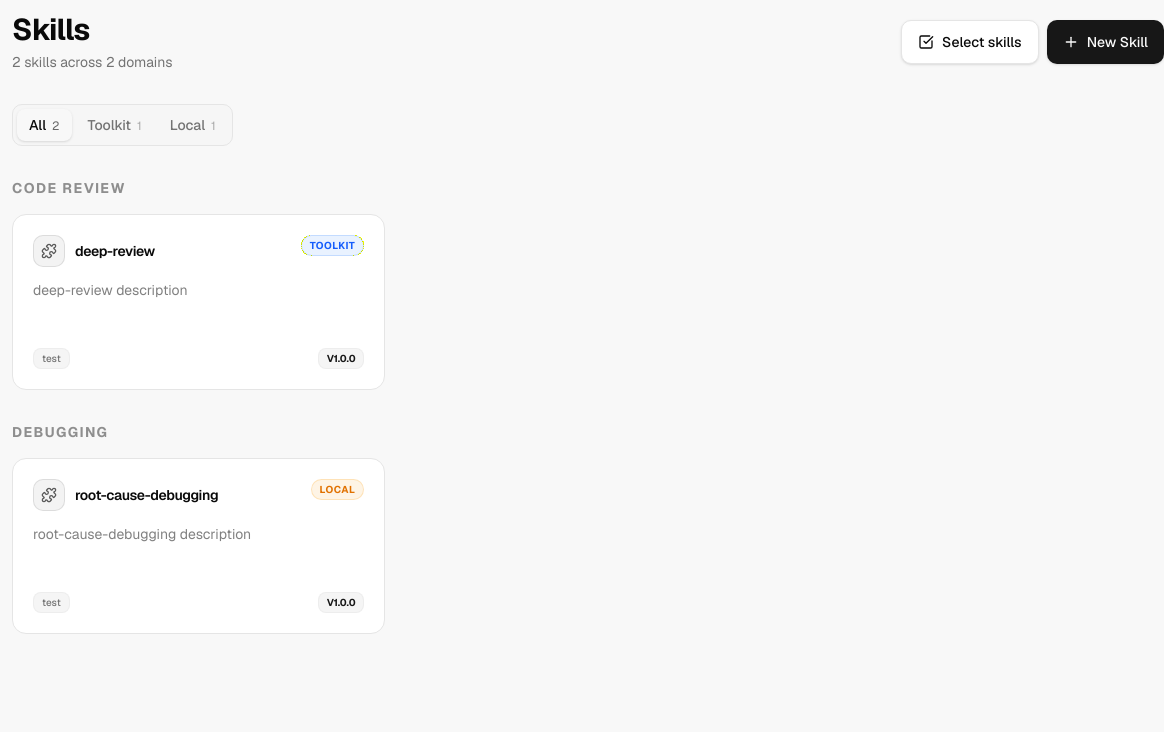
Test: SkillsList bulk selection › keeps selected skills when the source filter hides them
The image size is (1164, 732).
Click the button "Select skills". click: (970, 42)
box: [901, 20, 1039, 64]
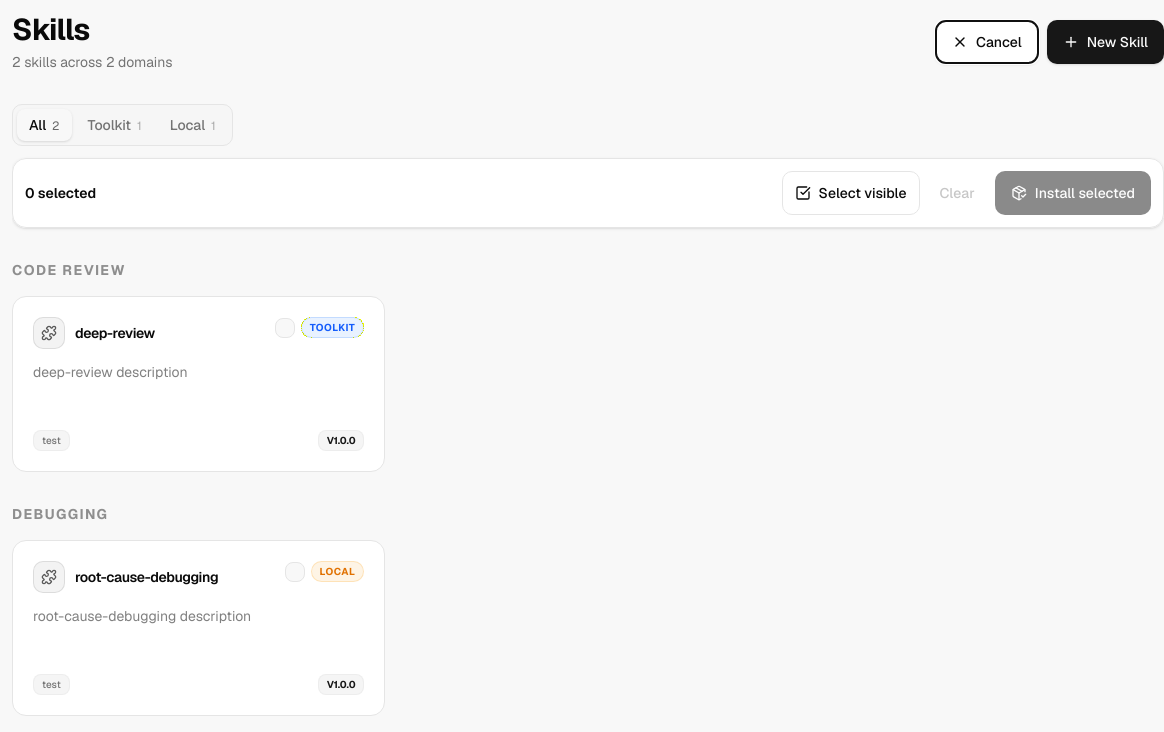
Click the checkbox named "select deep-review". click: (49, 333)
box: [12, 296, 385, 472]
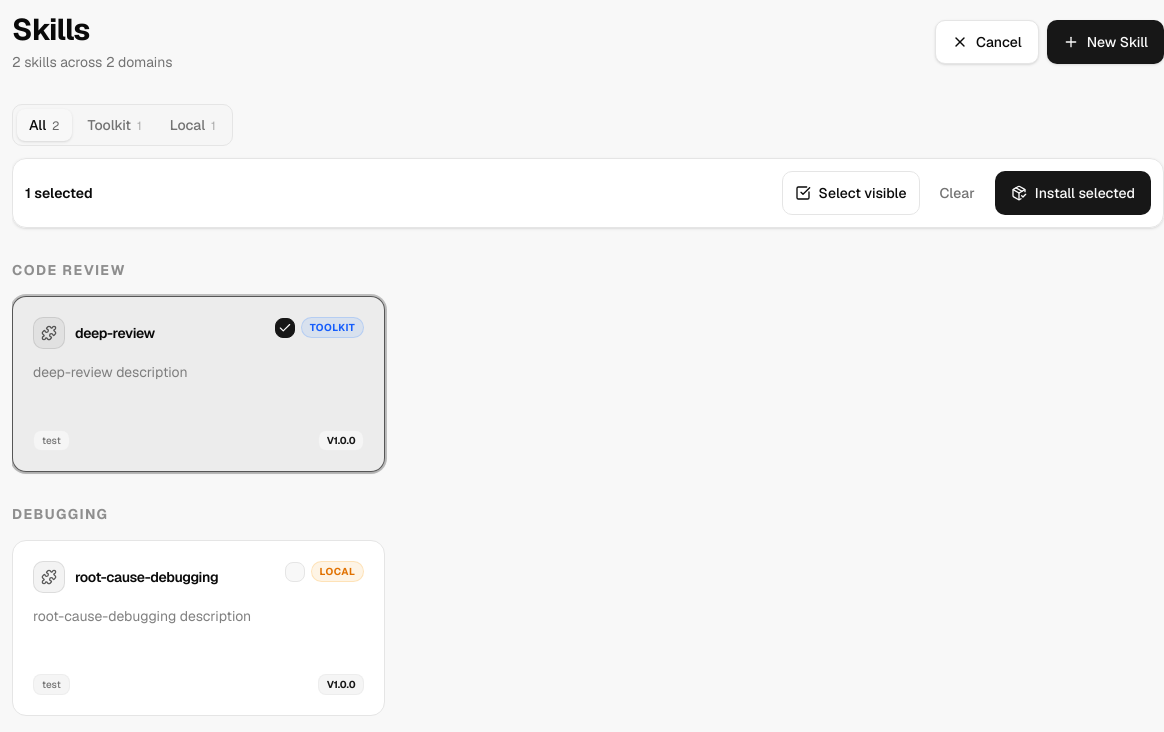
Click the button "Local1". click: (193, 125)
box: [158, 109, 228, 141]
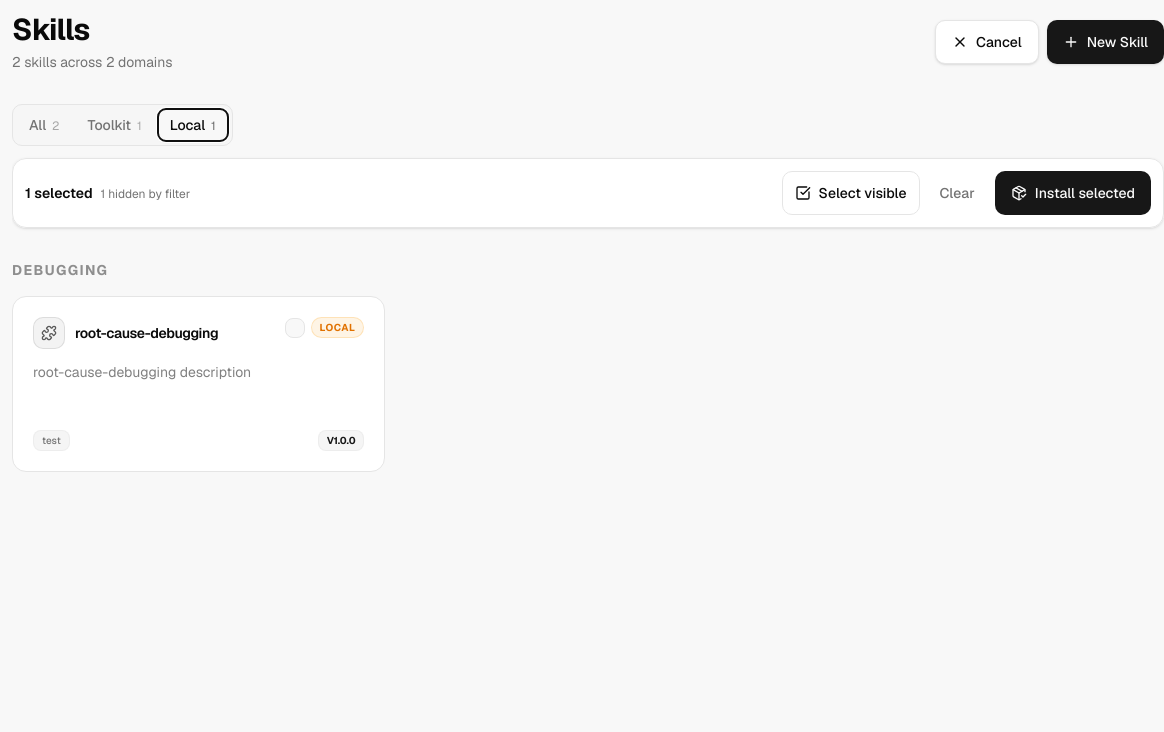
Check: the text "1 selected" is shown, box [25, 184, 93, 202]
Check: the text "1 hidden by filter" is shown, box [101, 186, 190, 202]
